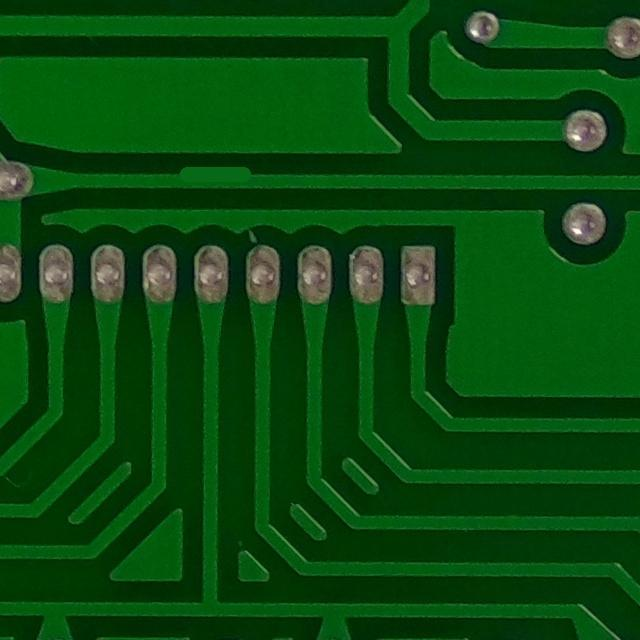spur: (173, 150, 266, 195)
